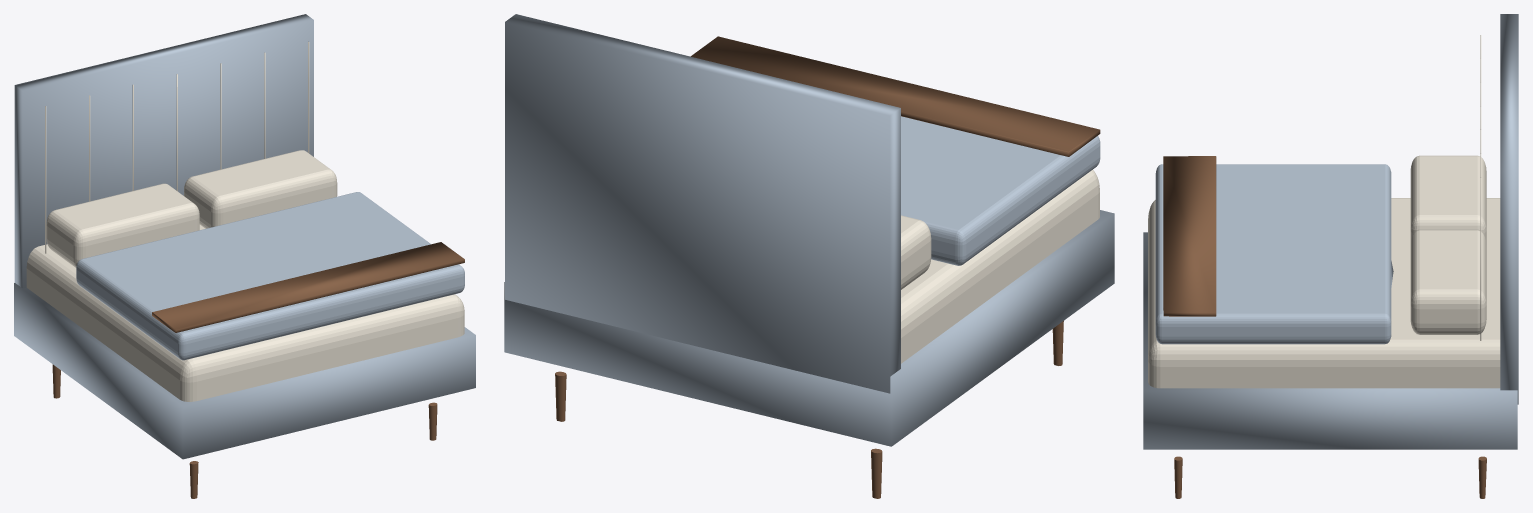
Rendered from bed-2-0.lod.glb.
3 renders of one model, left to right at view 1: azimuth 30°, elevation 25°; view 2: azimuth 150°, elevation 25°; view 3: azimuth 270°, elevation 25°, orthographic. The views are drawn at different scales.
Parts seen in each view (by area): view 1: upholstery, tailored-cushion, part; view 2: upholstery, tailored-cushion, part; view 3: upholstery, tailored-cushion, part.
Boxes of the visible parts, x1,y1,x2,y2 form: upholstery: [14, 14, 475, 459]; tailored-cushion: [26, 41, 464, 401]; part: [52, 242, 464, 498]; upholstery: [504, 14, 1114, 446]; tailored-cushion: [901, 170, 1099, 363]; part: [555, 36, 1100, 498]; upholstery: [1143, 14, 1518, 449]; tailored-cushion: [1148, 35, 1500, 388]; part: [1163, 156, 1486, 498].
Size of the model in its own units: 1 by 1 by 1.
